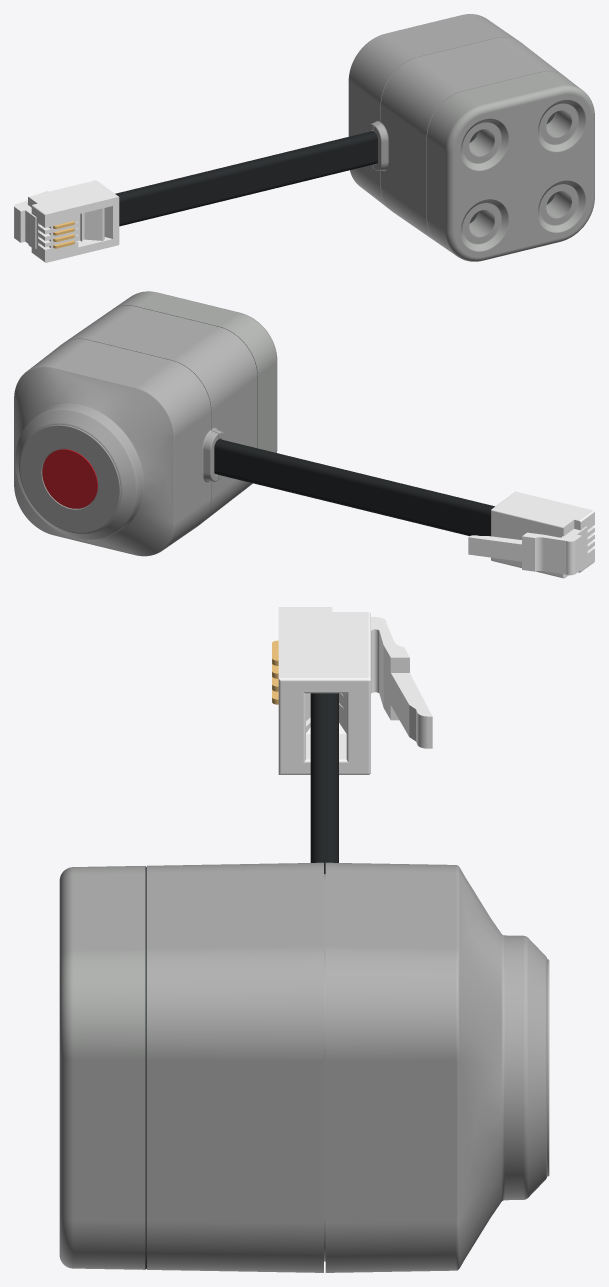
3 renders of one model, top to bottom at view 1: azimuth 30°, elevation 25°; view 2: azimuth 150°, elevation 25°; view 3: azimuth 270°, elevation 25°, orthographic. The views are drawn at different scales.
Visible parts, largest first — view 1: 269-6702-000 TO RELEASE; view 2: 269-6702-000 TO RELEASE; view 3: 269-6702-000 TO RELEASE.
Boxes of the visible parts, box(x1,y1,x2,y2) form: 269-6702-000 TO RELEASE: box(14, 14, 594, 262); 269-6702-000 TO RELEASE: box(14, 291, 594, 578); 269-6702-000 TO RELEASE: box(59, 607, 549, 1272).
Size of the model in its own units: 0.0833 by 0.0251 by 0.0349.
